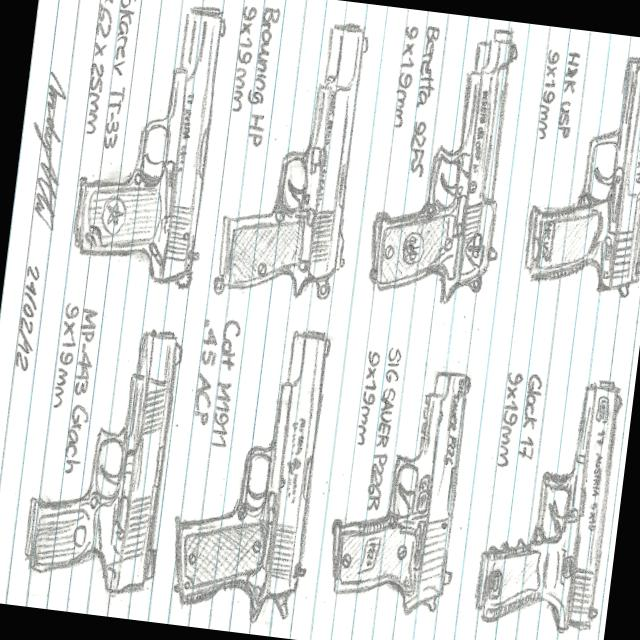handgun: (165, 318, 335, 622), (53, 0, 235, 283), (212, 0, 377, 309), (12, 316, 187, 596), (360, 12, 522, 308), (472, 366, 626, 640), (320, 353, 478, 617), (523, 43, 639, 301)
